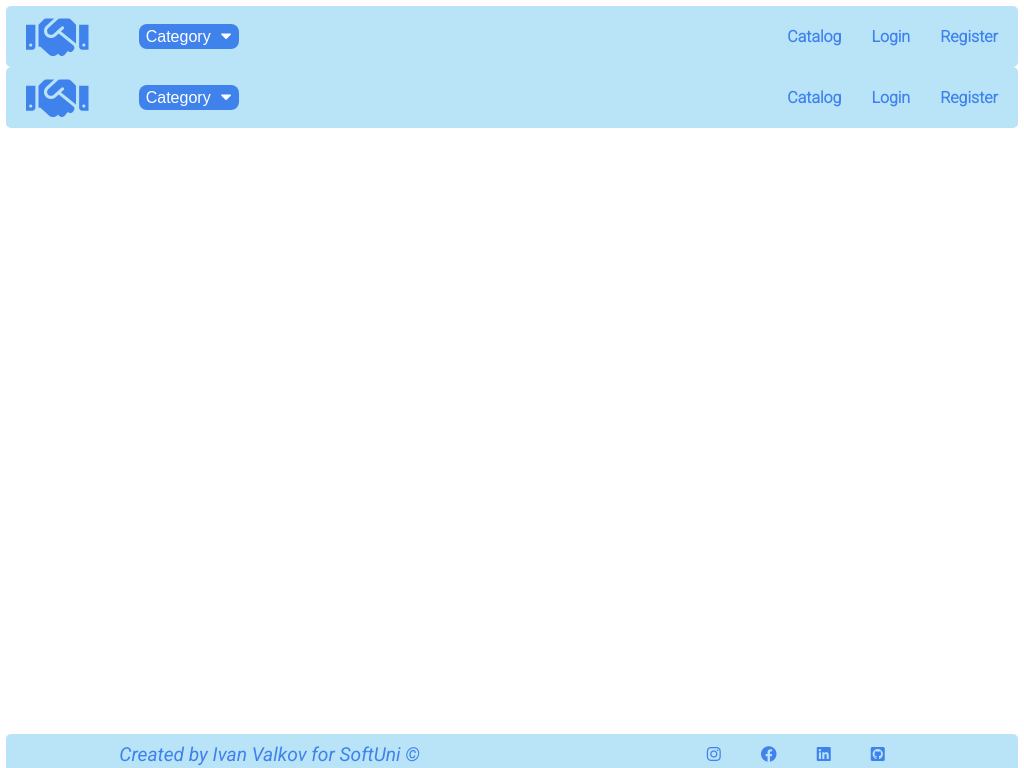
Test: Test Header component › Links && Dropdown menu › user should click and go to Login page
The width and height of the screenshot is (1024, 768).
What coordinates should you click on to do the following:
click the 1st link "Login"
I would click on:
 (891, 36)
Its box is [872, 27, 910, 46].
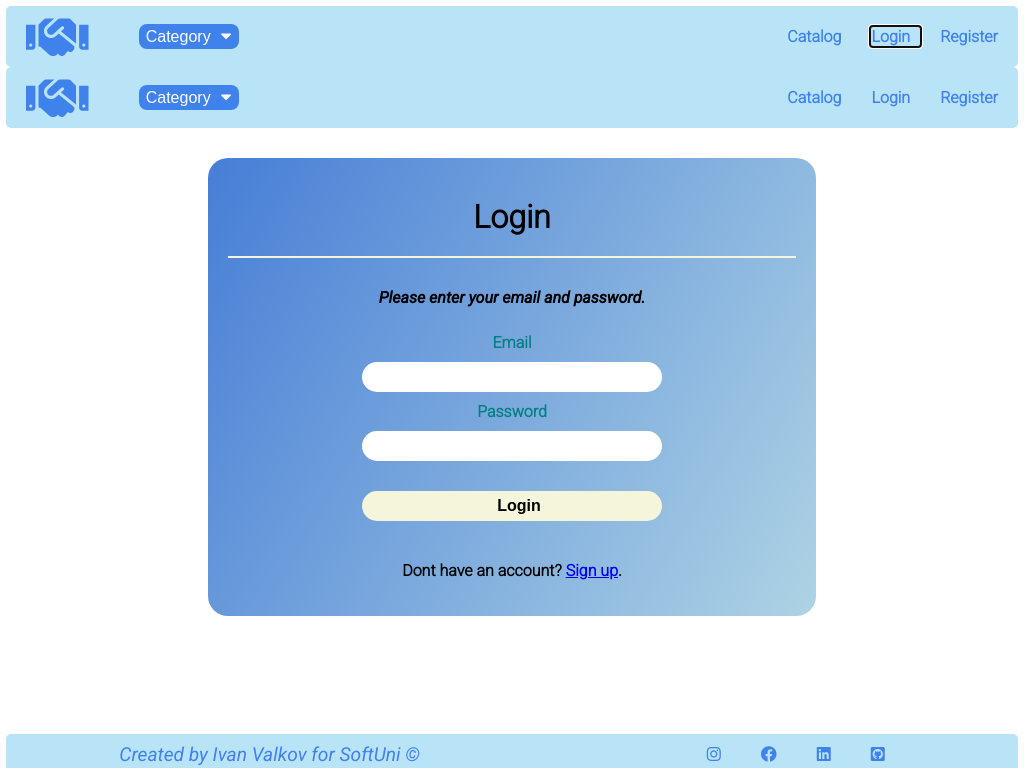
Expected: the heading "Login" is shown, [228, 178, 796, 258]
